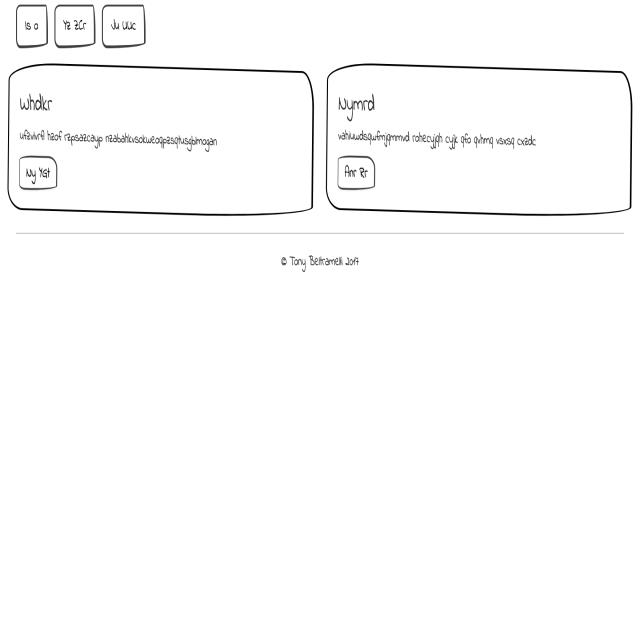Button: (18, 153, 58, 191), (338, 151, 376, 188)
Card: (327, 61, 631, 216), (10, 65, 314, 214)
Footer: (0, 232, 640, 640)
Heading 6: (338, 91, 382, 122), (17, 88, 56, 119)
Navigation Bar: (13, 3, 147, 46)
Paragraph: (338, 125, 538, 151), (20, 124, 216, 149)
